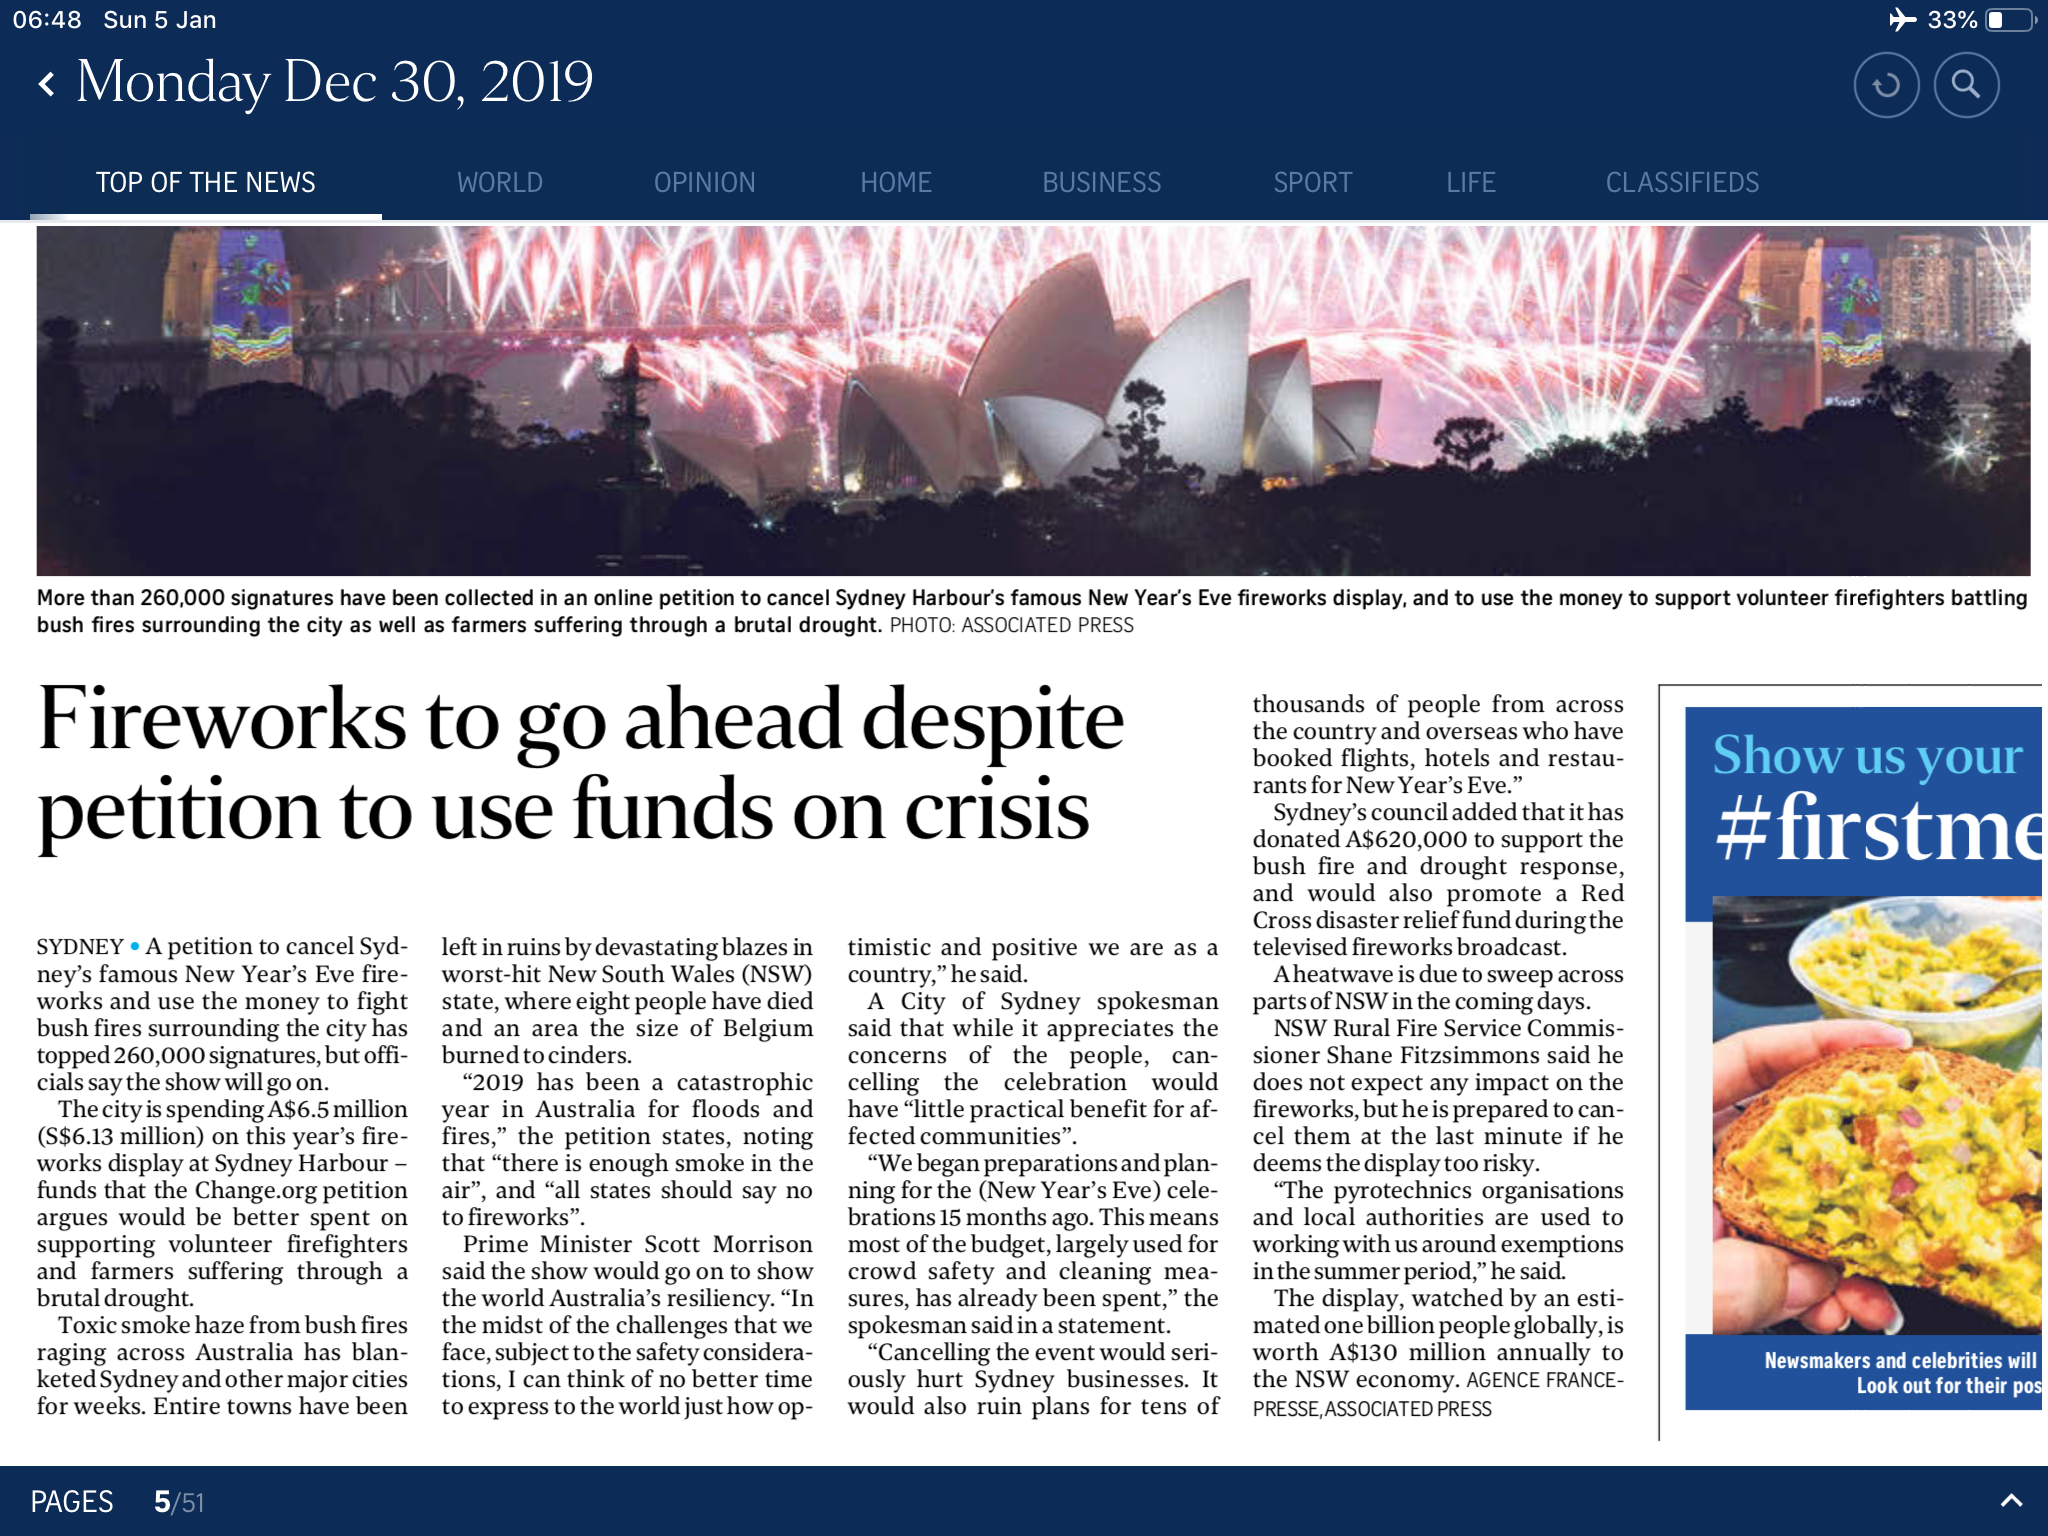Headline: (29, 670, 1134, 866)
Illustration: (31, 582, 2033, 644)
Image: (37, 223, 2033, 578), (1716, 887, 2048, 1334)
Text: (1247, 679, 1642, 1425), (837, 925, 1232, 1425), (432, 928, 826, 1430), (31, 929, 423, 1421)
